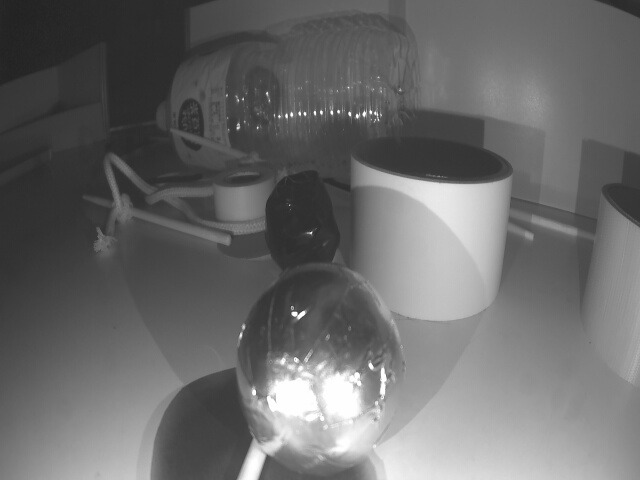Dead: (269, 172, 340, 273)
Live: (230, 267, 407, 477)
